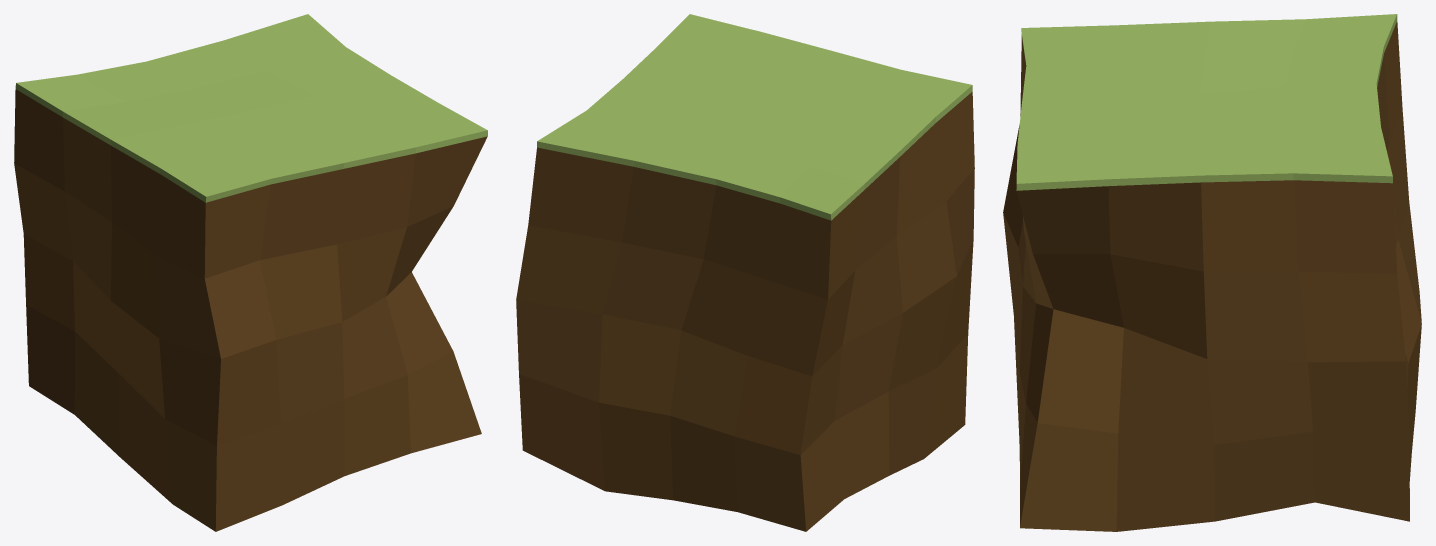
Rendered from grass.glb.
3 renders of one model, left to right at view 1: azimuth 30°, elevation 25°; view 2: azimuth 150°, elevation 25°; view 3: azimuth 270°, elevation 25°, orthographic. The views are drawn at different scales.
Parts seen in each view (by area): view 1: Grass 1; view 2: Grass 1; view 3: Grass 1.
Boxes of the visible parts, left/top/right/bottom form: Grass 1: left=14, top=14, right=487, bottom=531; Grass 1: left=516, top=14, right=974, bottom=531; Grass 1: left=1003, top=14, right=1421, bottom=531.
Size of the model in its own units: 2.09 by 2.21 by 2.17.
1 material, 1 textured.
